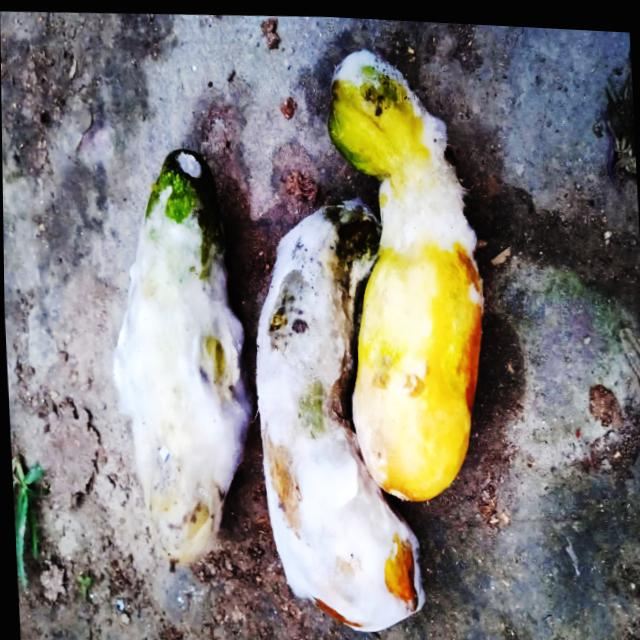Pythium-Fruit-Rot: (245, 184, 428, 630), (103, 187, 255, 565), (323, 34, 484, 312)
